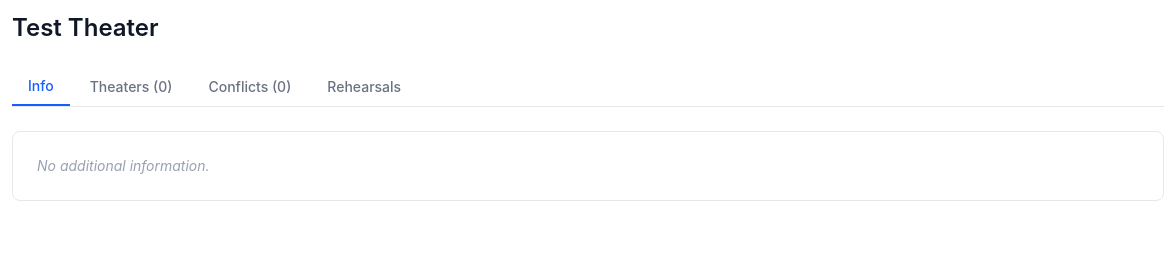
SpaceDetail — Rehearsals tab content › renders one row per upcoming rehearsal
Click the button "Rehearsals". click: (364, 87)
box: [311,68,417,106]
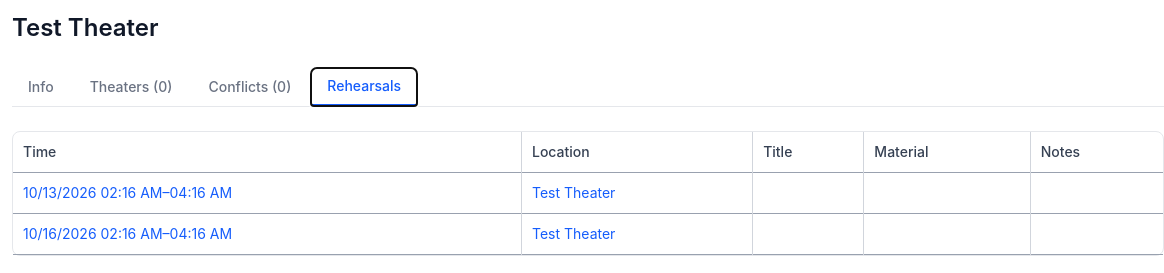
Expected: the number of rows is 3, [13,132,1163,172]; [13,172,1163,214]; [13,214,1163,254]
